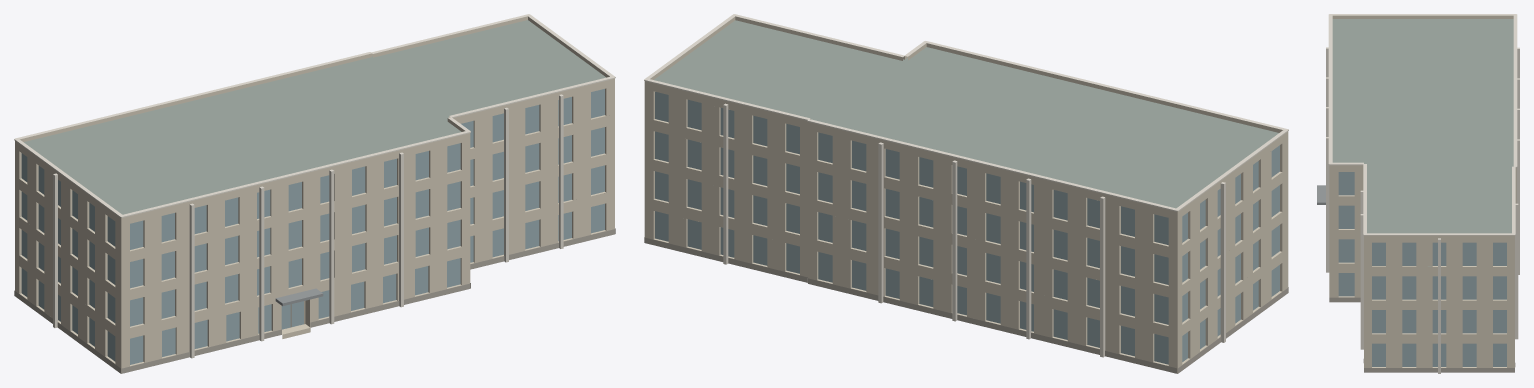
3 views of the same model, side by side, from view 1: azimuth 30°, elevation 25°; view 2: azimuth 150°, elevation 25°; view 3: azimuth 270°, elevation 25° (orthographic). The views are drawn at different scales.
Parts seen in each view (by area): view 1: b115951760__wall, b115951760__roof, b115951760__glass, b115951760__trim, b115951760__parapet, b115951760__base; view 2: b115951760__wall, b115951760__roof, b115951760__glass, b115951760__trim, b115951760__parapet, b115951760__base; view 3: b115951760__roof, b115951760__wall, b115951760__glass, b115951760__trim, b115951760__parapet, b115951760__base, b115951760__canopy.
Boxes of the visible parts, bbox=[...] form: b115951760__wall: bbox=[15, 81, 614, 373]; b115951760__roof: bbox=[24, 20, 605, 373]; b115951760__glass: bbox=[21, 89, 604, 364]; b115951760__trim: bbox=[14, 14, 615, 358]; b115951760__parapet: bbox=[15, 16, 614, 220]; b115951760__base: bbox=[14, 228, 615, 373]; b115951760__wall: bbox=[644, 83, 1288, 373]; b115951760__roof: bbox=[654, 20, 1278, 373]; b115951760__glass: bbox=[655, 91, 1279, 364]; b115951760__trim: bbox=[644, 14, 1288, 357]; b115951760__parapet: bbox=[644, 16, 1288, 214]; b115951760__base: bbox=[644, 237, 1288, 373]; b115951760__roof: bbox=[1332, 19, 1513, 266]; b115951760__wall: bbox=[1329, 167, 1516, 367]; b115951760__glass: bbox=[1338, 172, 1506, 366]; b115951760__trim: bbox=[1326, 14, 1519, 373]; b115951760__parapet: bbox=[1329, 15, 1516, 237]; b115951760__base: bbox=[1329, 297, 1515, 372]; b115951760__canopy: bbox=[1317, 185, 1325, 204].
Bounding box in the file's own units: 51.13 × 15.15 × 19.66.
